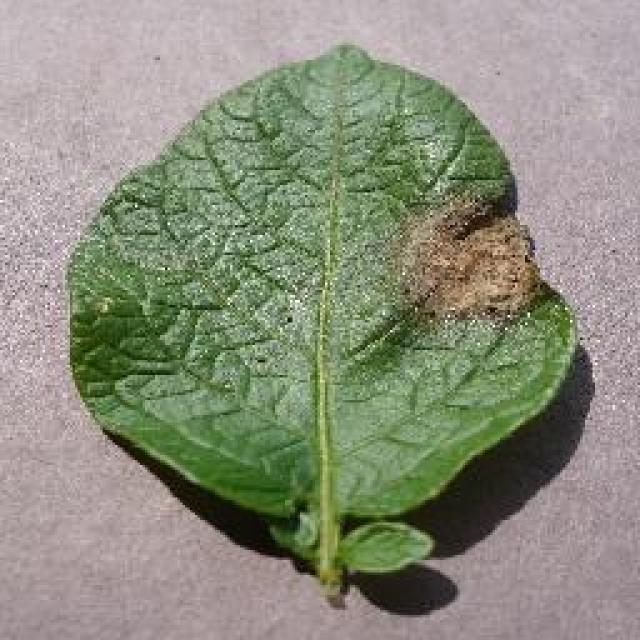late_blight: (60, 37, 582, 595)
